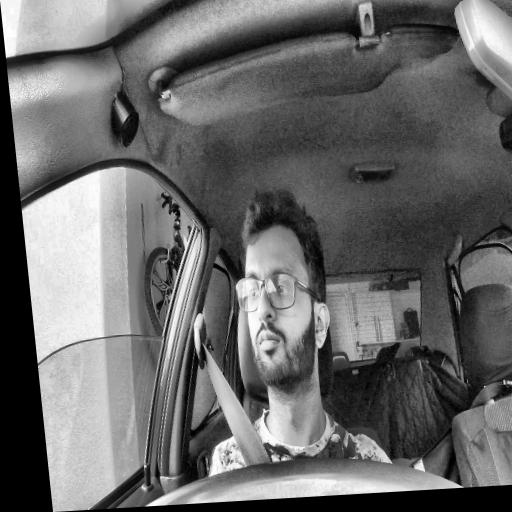awake: (226, 187, 338, 393)
